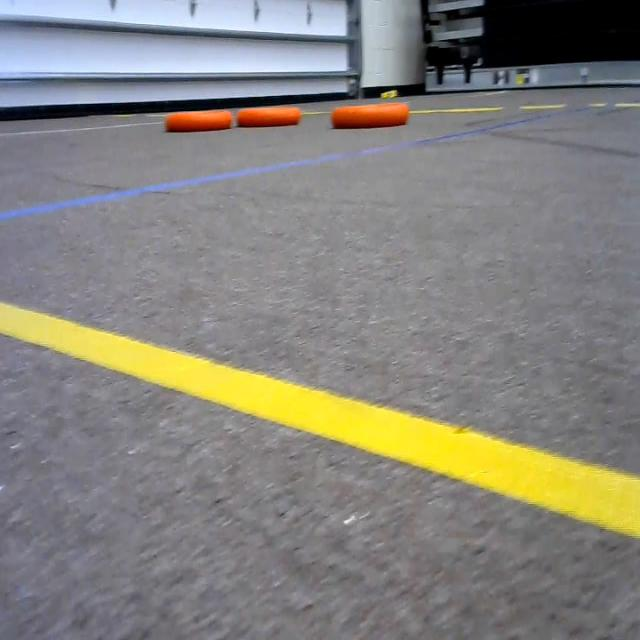note: (328, 93, 420, 132), (162, 102, 233, 137), (234, 102, 306, 136)
